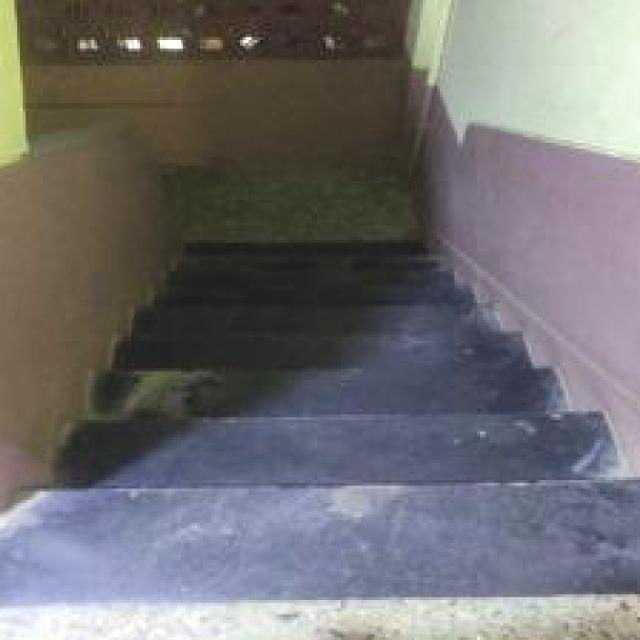downstair: (30, 355, 590, 564)
